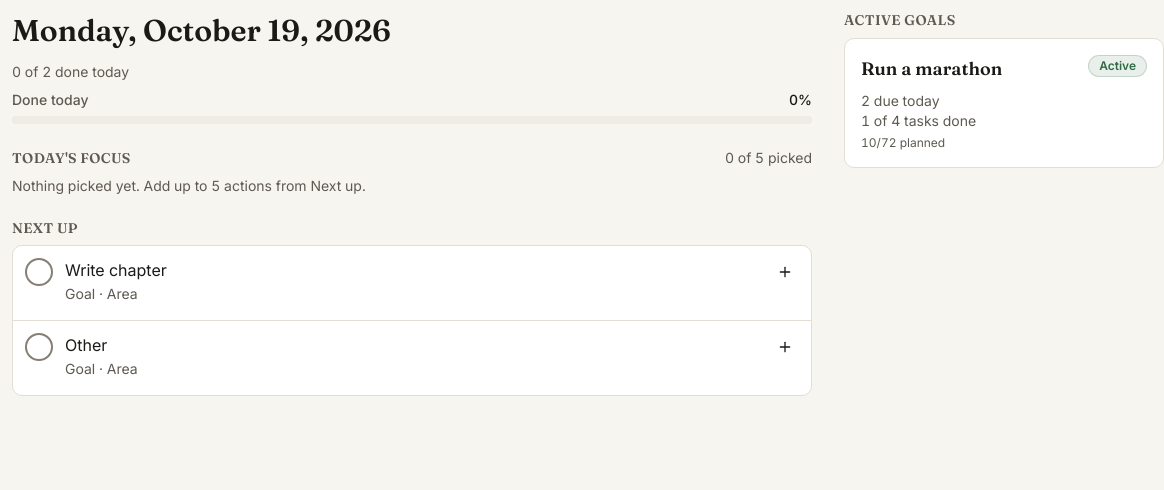
Test: TodayView › optimistically moves a task to Done today and keeps it on success
What coordinates should you click on to do the following:
click the button named "Complete: Write chapter"
I would click on:
 (39, 272)
Its box is [17,250,61,294].
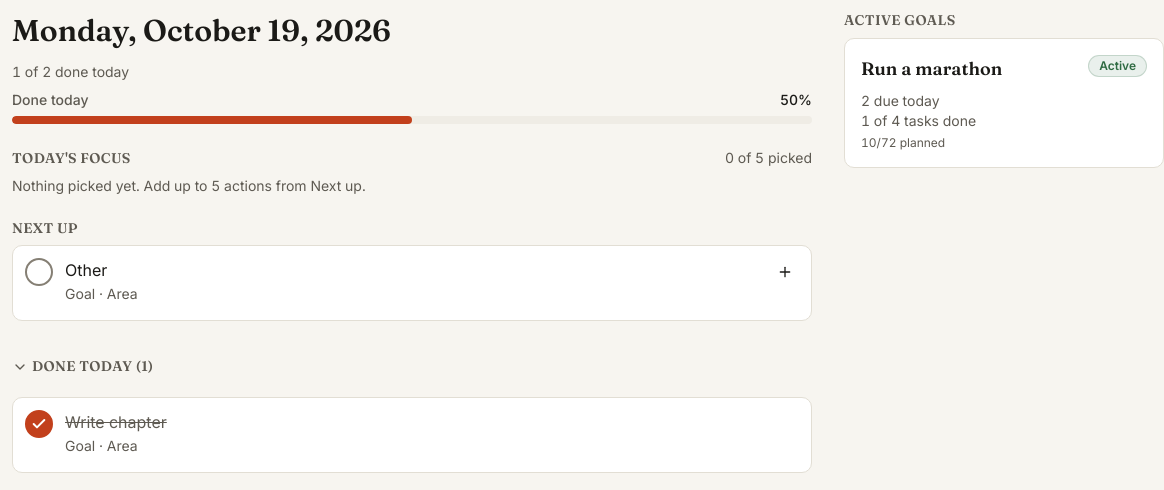
Now the text "1 of 2 done today" is shown, box [12,62,129,80]
